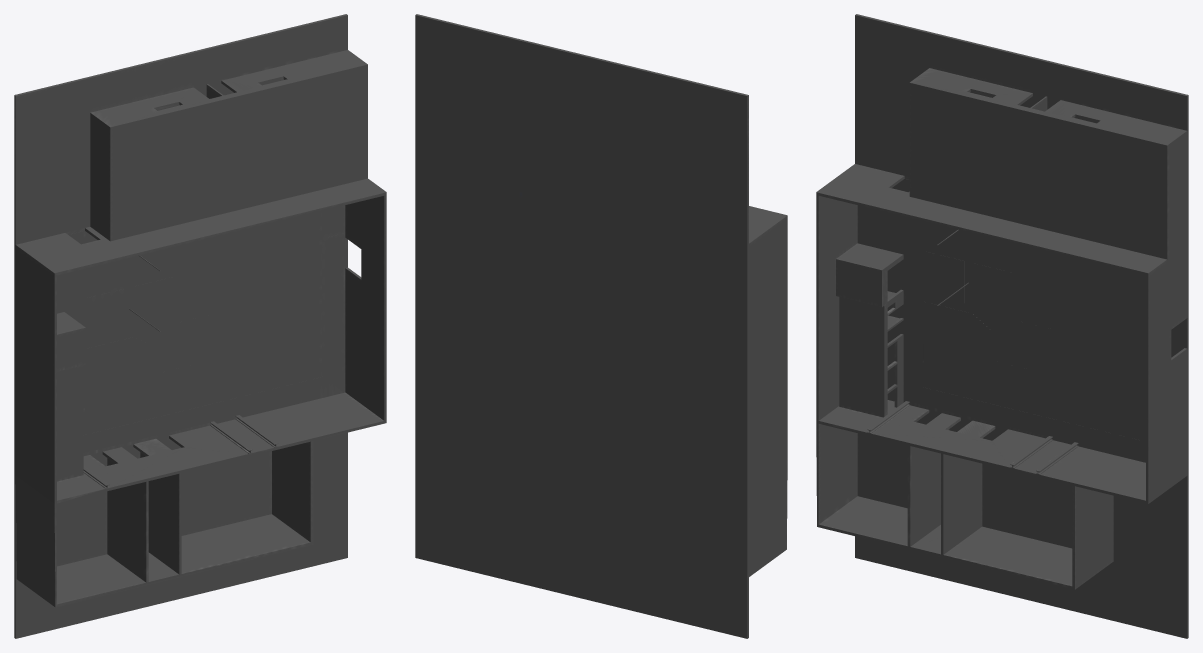
File: atelier rv-ra.glb
3 views of the same model, side by side, from view 1: azimuth 30°, elevation 25°; view 2: azimuth 150°, elevation 25°; view 3: azimuth 330°, elevation 25° (orthographic).
Parts seen in each view (by area): view 1: node_id5; view 2: node_id5; view 3: node_id5.
Part boxes in pixels (box(x1,y1,x2,y2)): node_id5: box(14, 14, 386, 638); node_id5: box(415, 14, 787, 638); node_id5: box(816, 14, 1188, 638).
Size of the model in its own units: 0.328 by 0.512 by 0.0691.
Materials: 1 (1 with a texture image).
